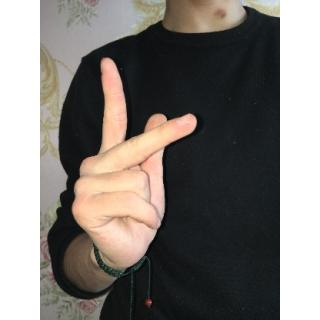DHAA: (66, 53, 197, 290)
